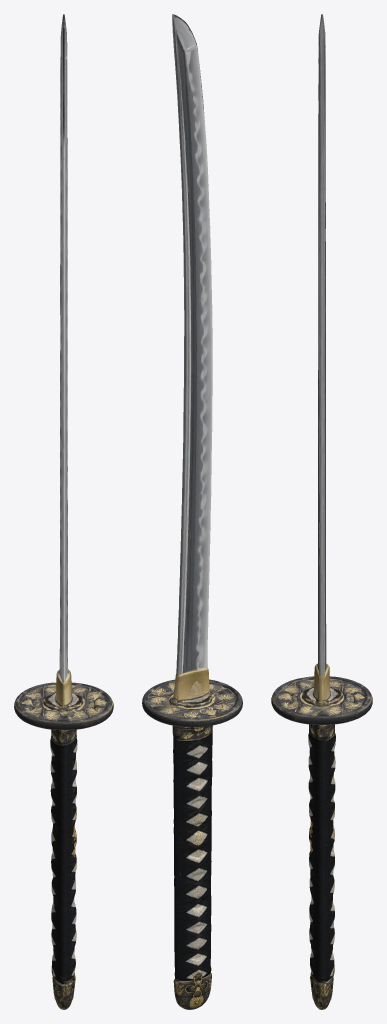
The model's file is weapon_japan_katana.glb.
The picture shows the model from 3 angles, left to right: view 1: azimuth 90°, elevation 25°; view 2: azimuth 210°, elevation 25°; view 3: azimuth 270°, elevation 25°; orthographic projection.
Bounding box in the file's own units: 0.0909 × 1 × 0.0918.
1 material, 1 textured.
